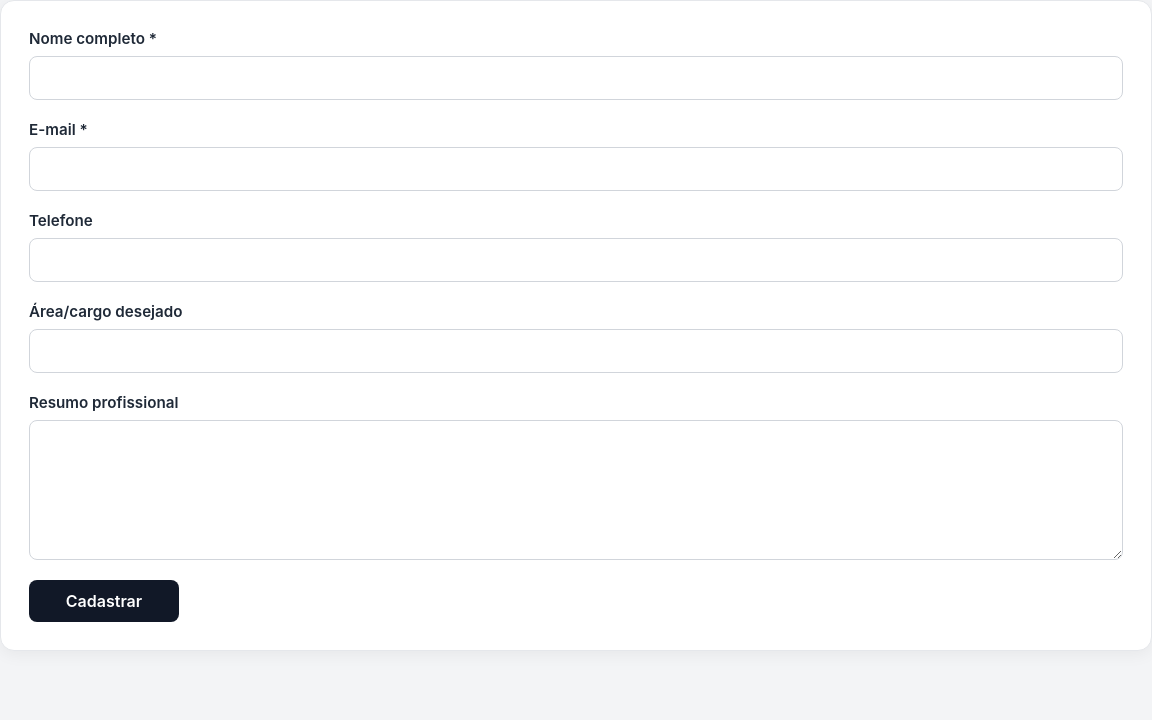
Test: CandidateForm › deve mostrar erro para e-mail inválido
Type "Pedro Loureiro" into the field labelled "Nome completo *" at (576, 78), box [29,56,1123,100]
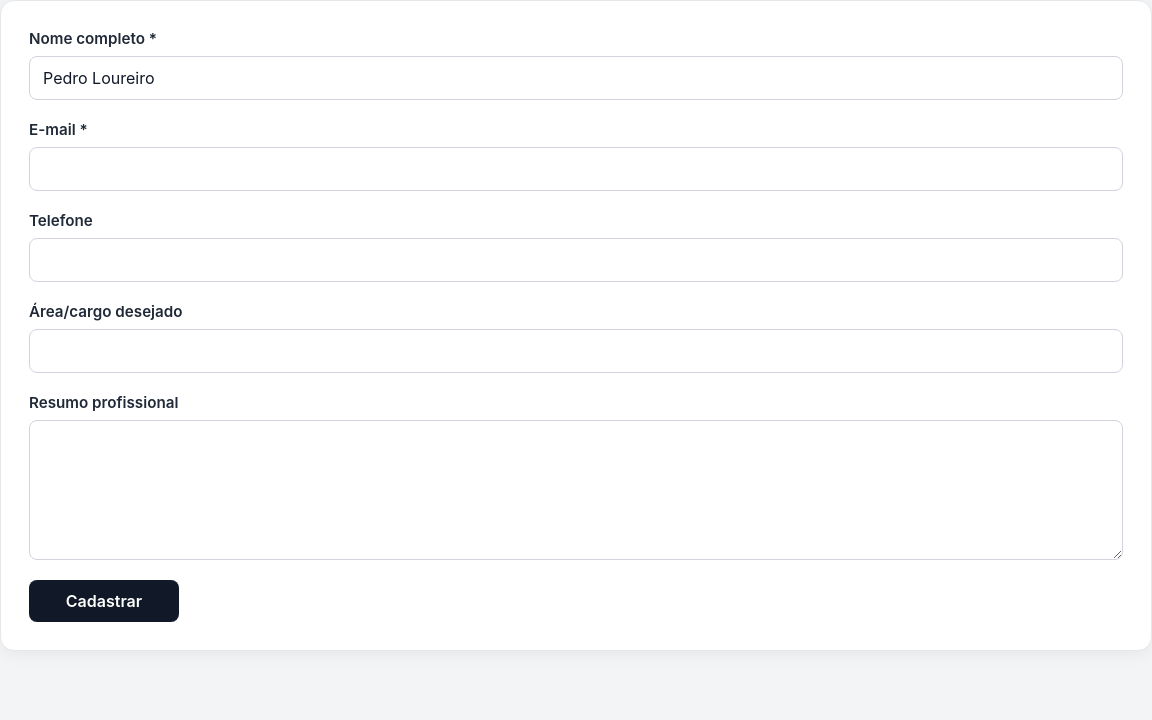
Type "pedro@" into the field labelled "E-mail *" at (576, 169), box [29,147,1123,191]
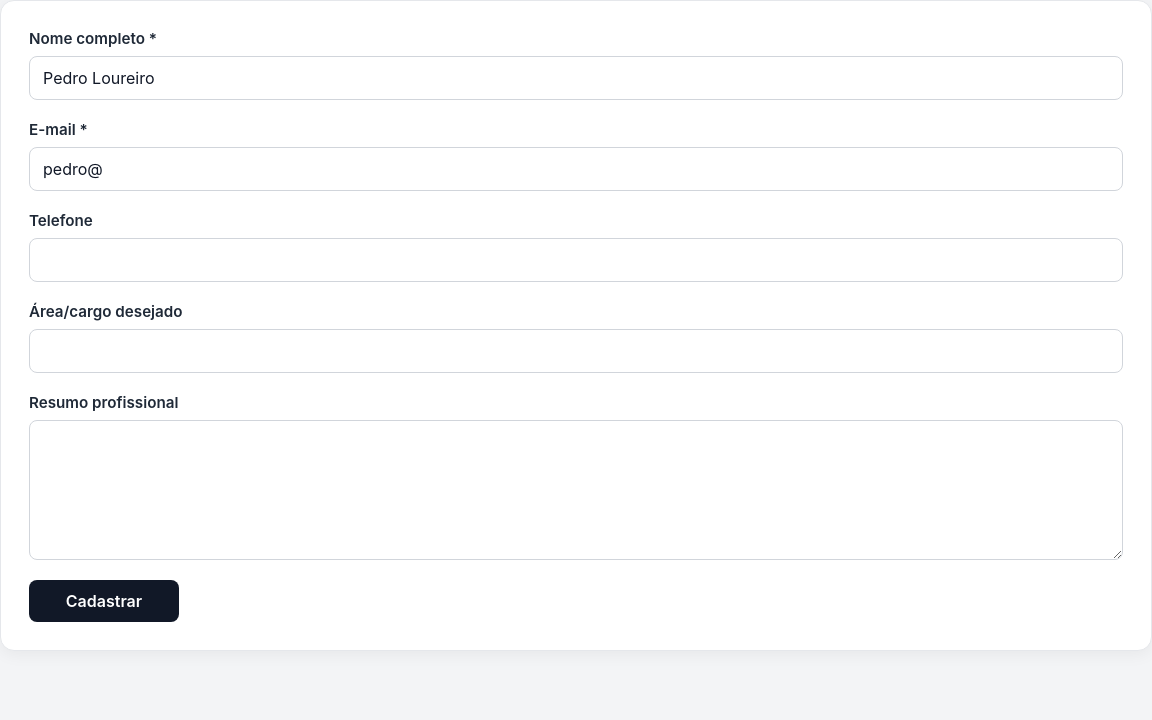
Click the button "Cadastrar" at (104, 601), box [29,580,179,622]
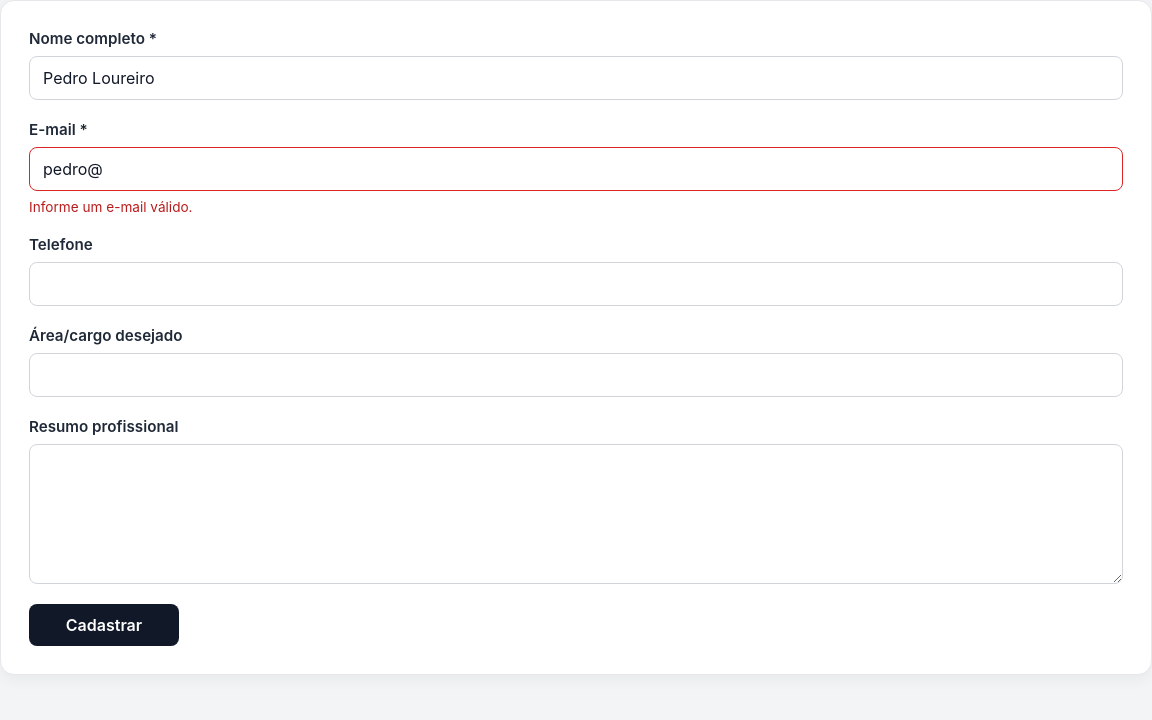
Result: the text "Informe um e-mail válido." is shown at [29,199,192,215]
